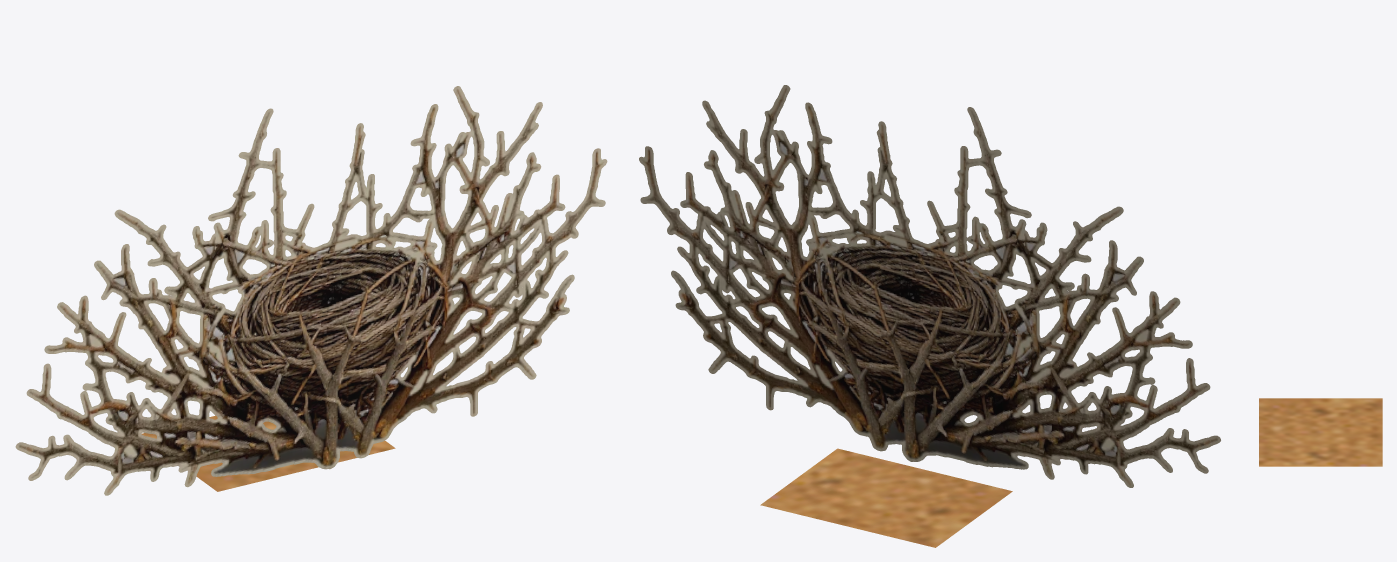
Rendered from toad-prop-dead-bush-b.glb.
The picture shows the model from 3 angles, left to right: view 1: azimuth 30°, elevation 25°; view 2: azimuth 150°, elevation 25°; view 3: azimuth 270°, elevation 25°; orthographic projection. The views are drawn at different scales.
Visible parts, largest first — view 1: dead-bush-b; view 2: dead-bush-b; view 3: dead-bush-b.
Boxes of the visible parts, box(x1,y1,x2,y2) form: dead-bush-b: box(15, 86, 607, 495); dead-bush-b: box(639, 85, 1220, 547); dead-bush-b: box(1259, 398, 1382, 466).
Size of the model in its own units: 0.144 by 0.09 by 0.035.
Materials: 1 (1 with a texture image).
